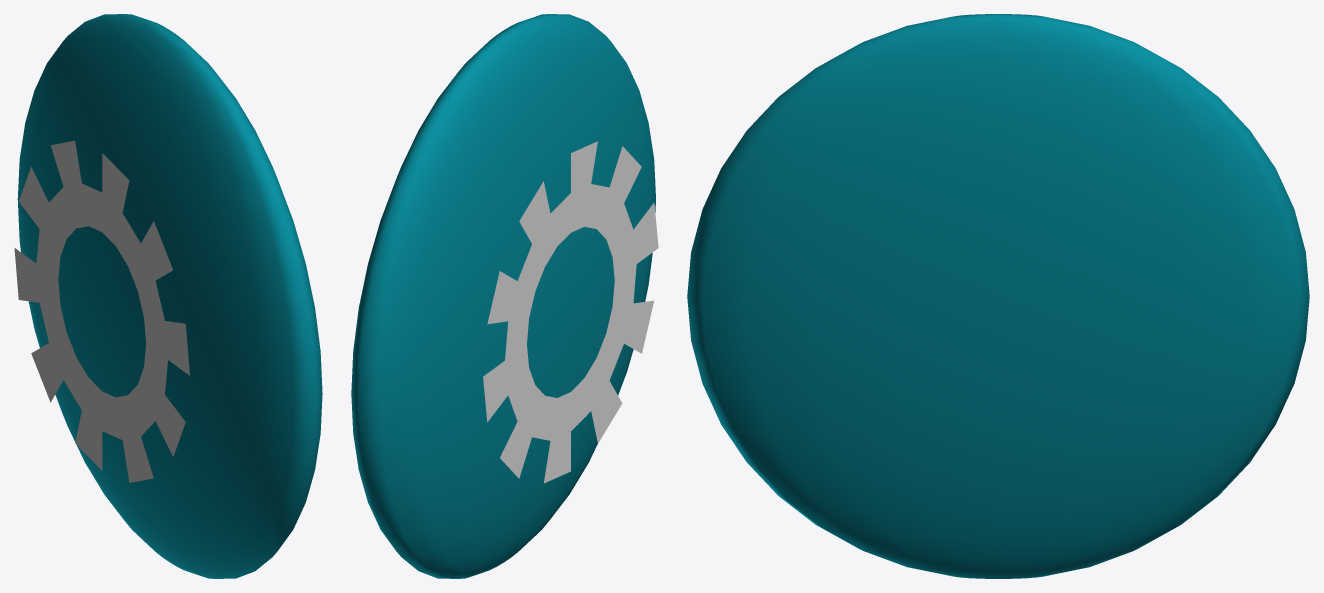
The model's file is setting.fbx.
3 renders of one model, left to right at view 1: azimuth 30°, elevation 25°; view 2: azimuth 150°, elevation 25°; view 3: azimuth 270°, elevation 25°, orthographic. The views are drawn at different scales.
Visible parts, largest first — view 1: pSphere2, pCylinder1; view 2: pSphere2, pCylinder1; view 3: pSphere2.
Boxes of the visible parts, left/top/right/bottom form: pSphere2: left=17, top=14, right=322, bottom=578; pCylinder1: left=14, top=140, right=189, bottom=482; pSphere2: left=351, top=14, right=655, bottom=578; pCylinder1: left=483, top=141, right=658, bottom=483; pSphere2: left=687, top=14, right=1309, bottom=578.
Size of the model in its own units: 0.4575 by 2 by 2.
